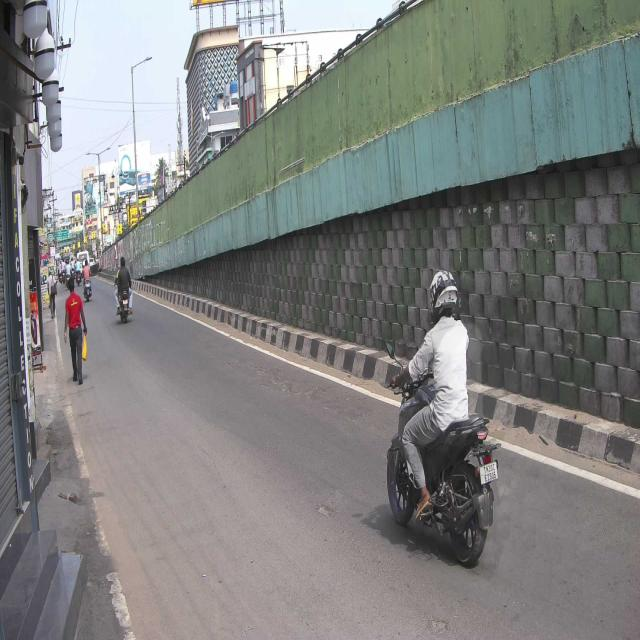single_rider: (384, 270, 496, 570)
